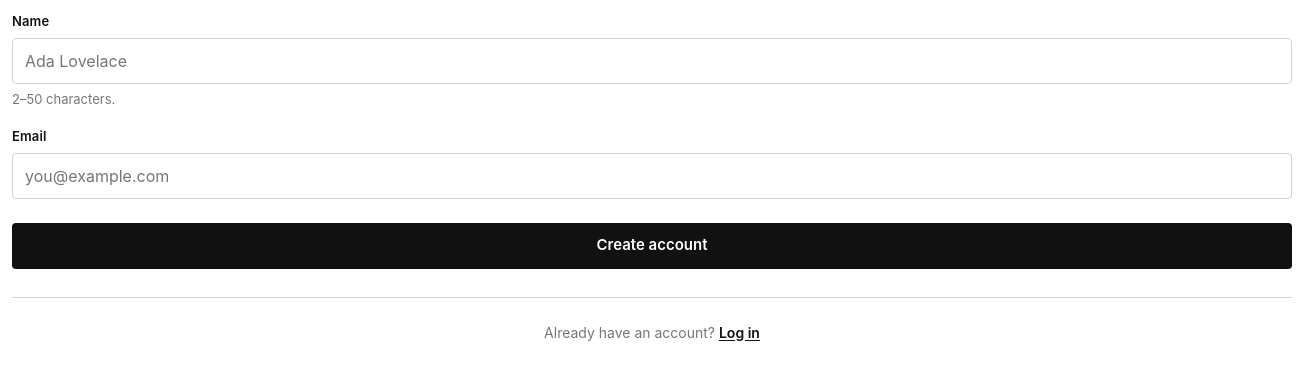
it: RegisterForm › flags an invalid email on blur without disturbing the name error
The width and height of the screenshot is (1304, 383).
Type "A" into the field labelled "Name" at (652, 60), box [12,38,1292,84]
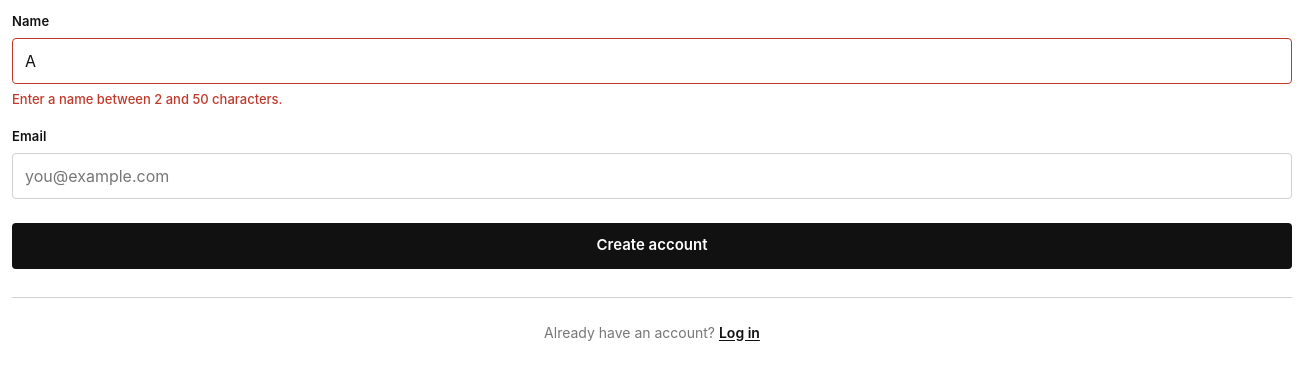
Type "nope" into the field labelled "Email" at (652, 176), box [12,152,1292,198]
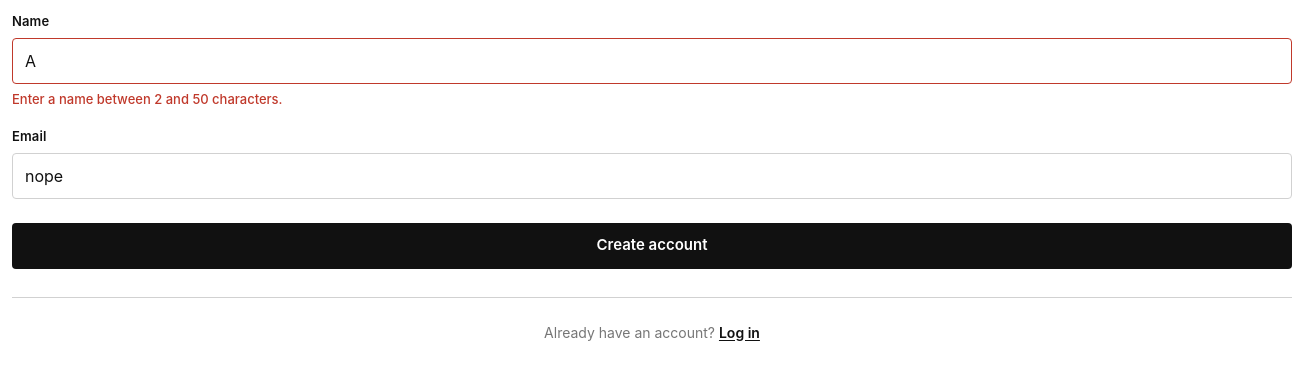
Leave the field labelled "Email", box [12,152,1292,198]
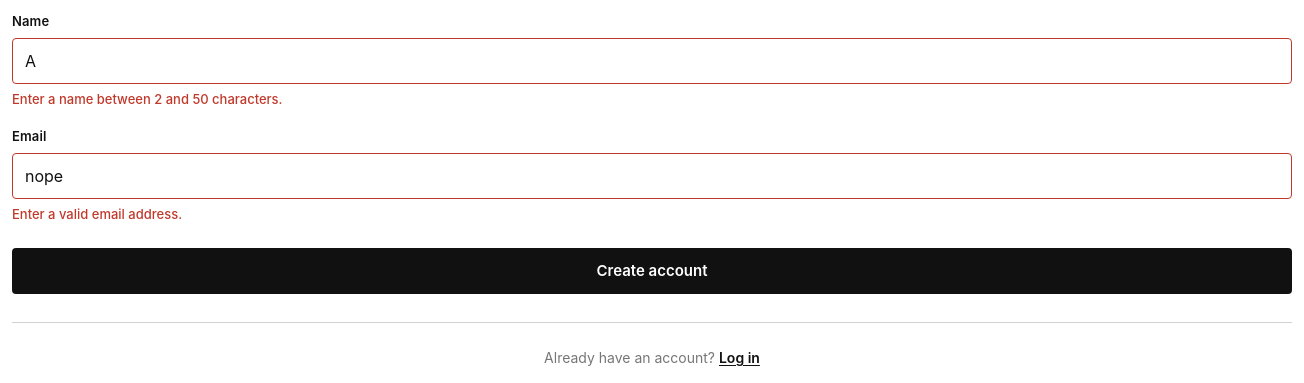
Result: the text "Enter a valid email address." is shown at [12,206,182,222]
